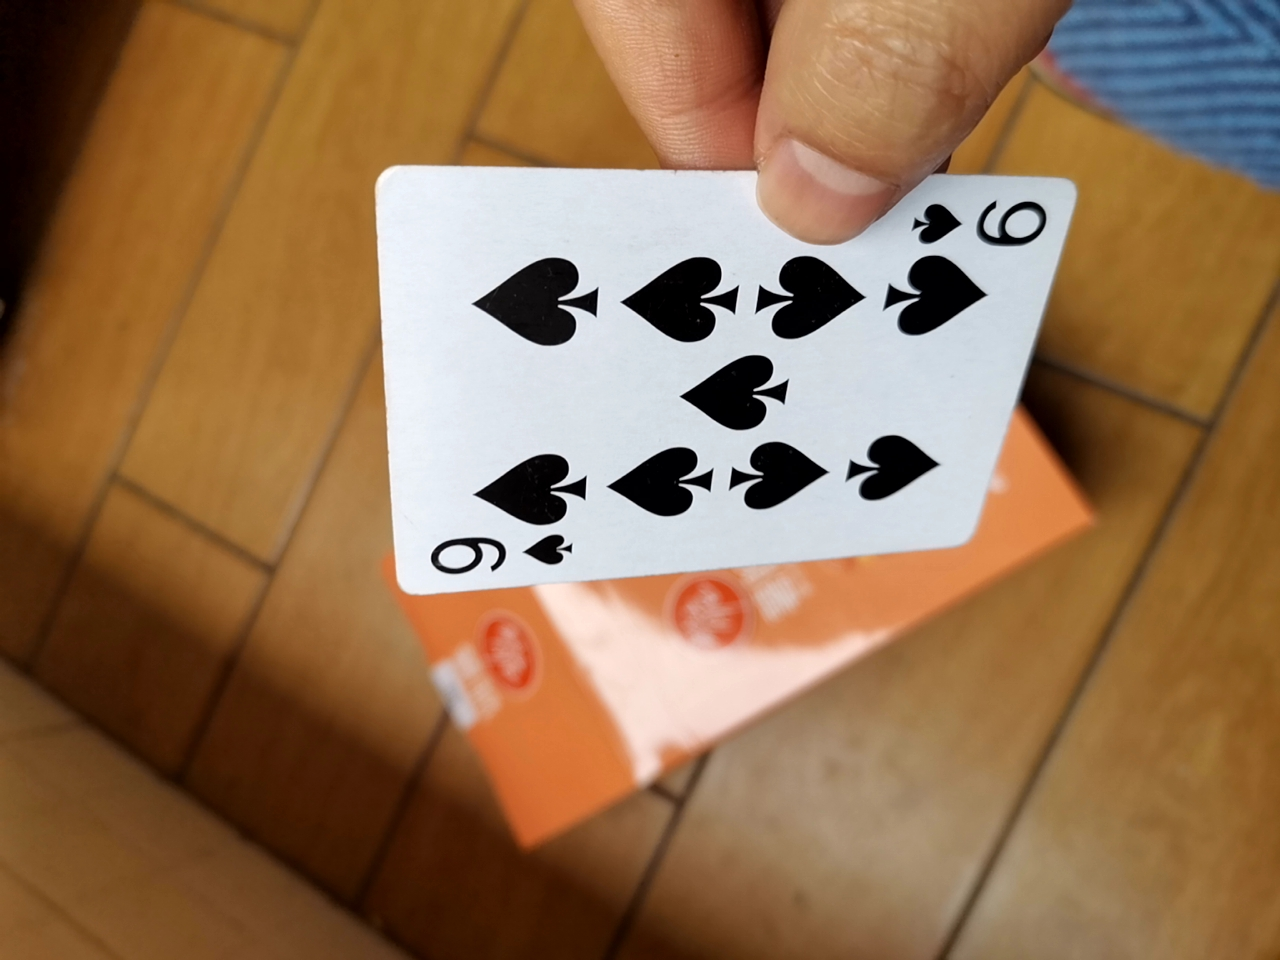ht 9: (362, 156, 1075, 596)
